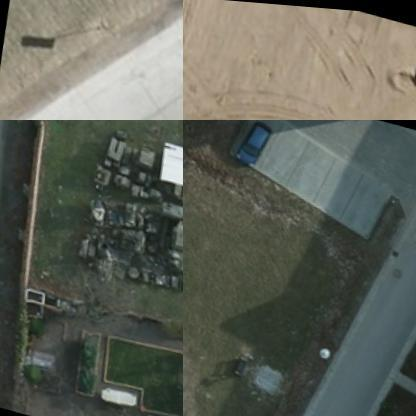car: (237, 120, 278, 171)
